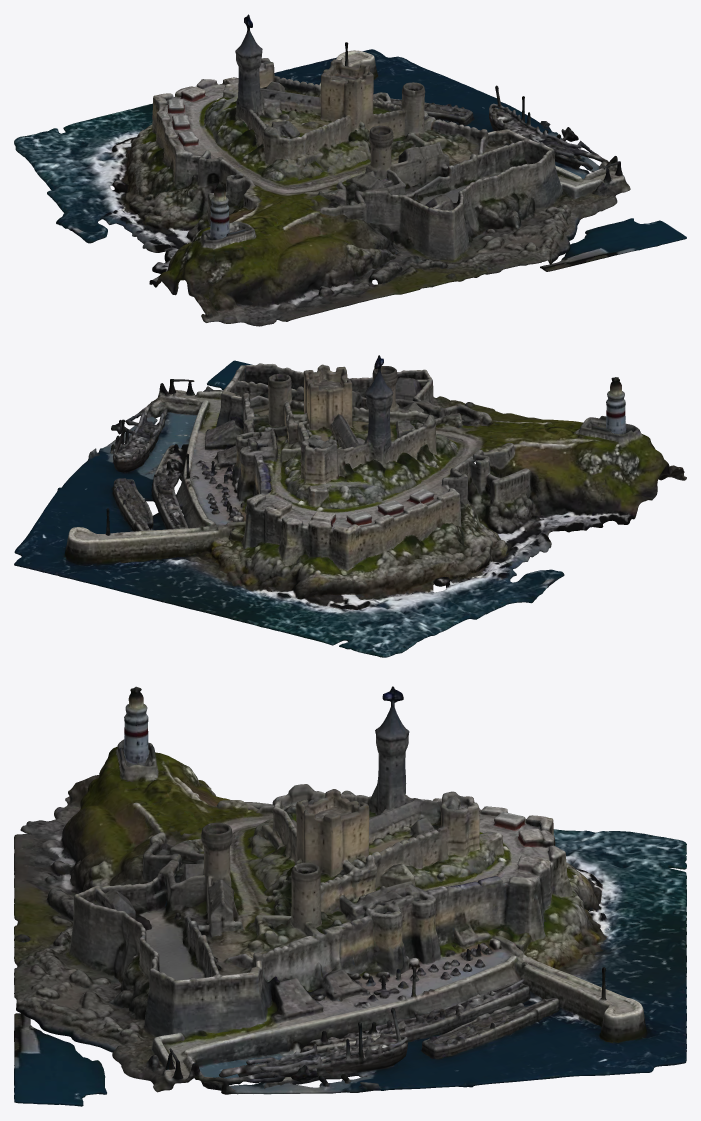
Rendered from Fortified Island.glb.
3 views of the same model, one above another, from view 1: azimuth 30°, elevation 25°; view 2: azimuth 150°, elevation 25°; view 3: azimuth 270°, elevation 25° (orthographic). The views are drawn at different scales.
Visible parts, largest first — view 1: geometry_0; view 2: geometry_0; view 3: geometry_0.
Boxes of the visible parts, x1,y1,x2,y2 form: geometry_0: (14, 14, 686, 326); geometry_0: (14, 355, 686, 657); geometry_0: (14, 686, 686, 1106).
Size of the model in its own units: 0.997 by 0.3895 by 0.9863.
1 material, 1 textured.
